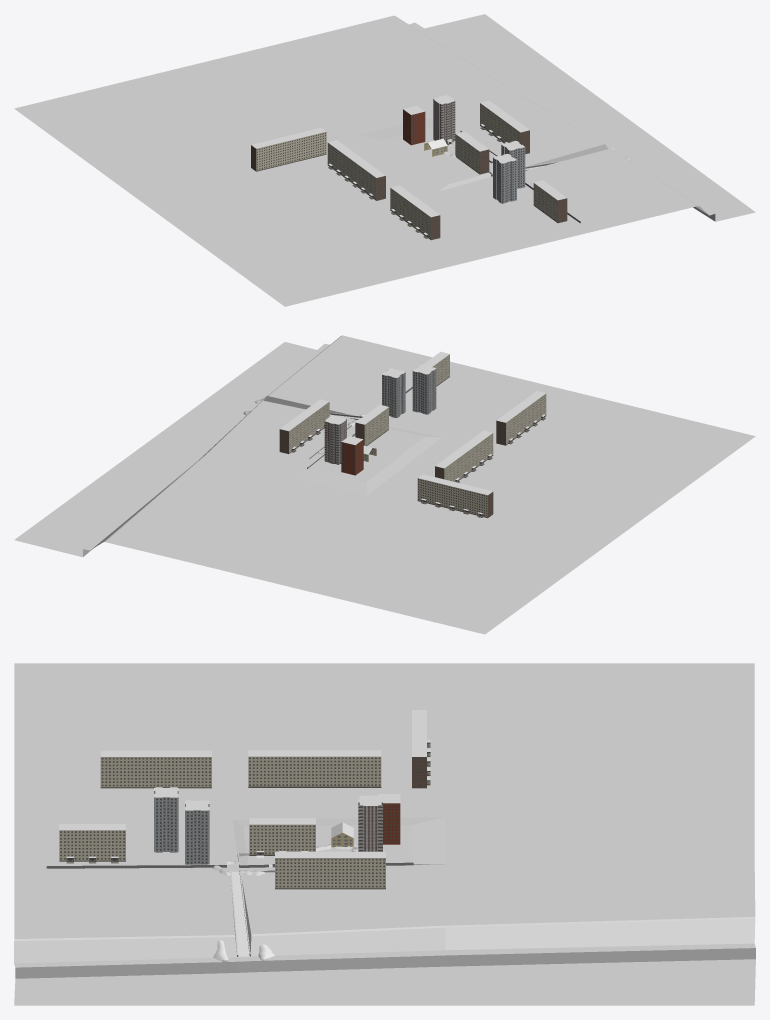
Rendered from hood.glb.
3 renders of one model, top to bottom at view 1: azimuth 30°, elevation 25°; view 2: azimuth 150°, elevation 25°; view 3: azimuth 270°, elevation 25°, orthographic. The views are drawn at different scales.
Parts seen in each view (by area): view 1: ground; view 2: ground; view 3: ground.
Part boxes in pixels (x1,y1,x2,y2): ground: (14,14,755,306); ground: (14,335,755,634); ground: (14,663,755,1005).
Size of the model in its own units: 60.23 by 7.5 by 60.12.
27 materials, 19 textured.
